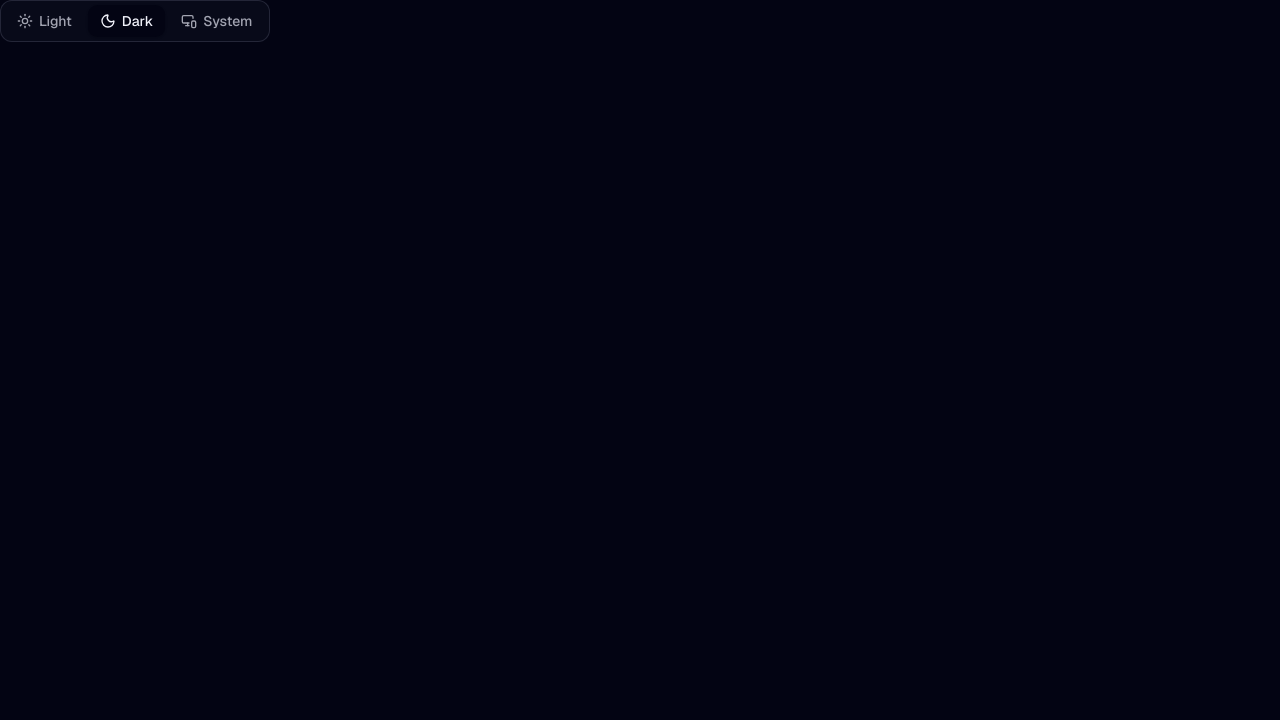
it: ThemeToggle › switches back to light mode and removes the .dark class
Click the radio button labelled "Dark".
click(127, 21)  # box 88,5 -> 165,37
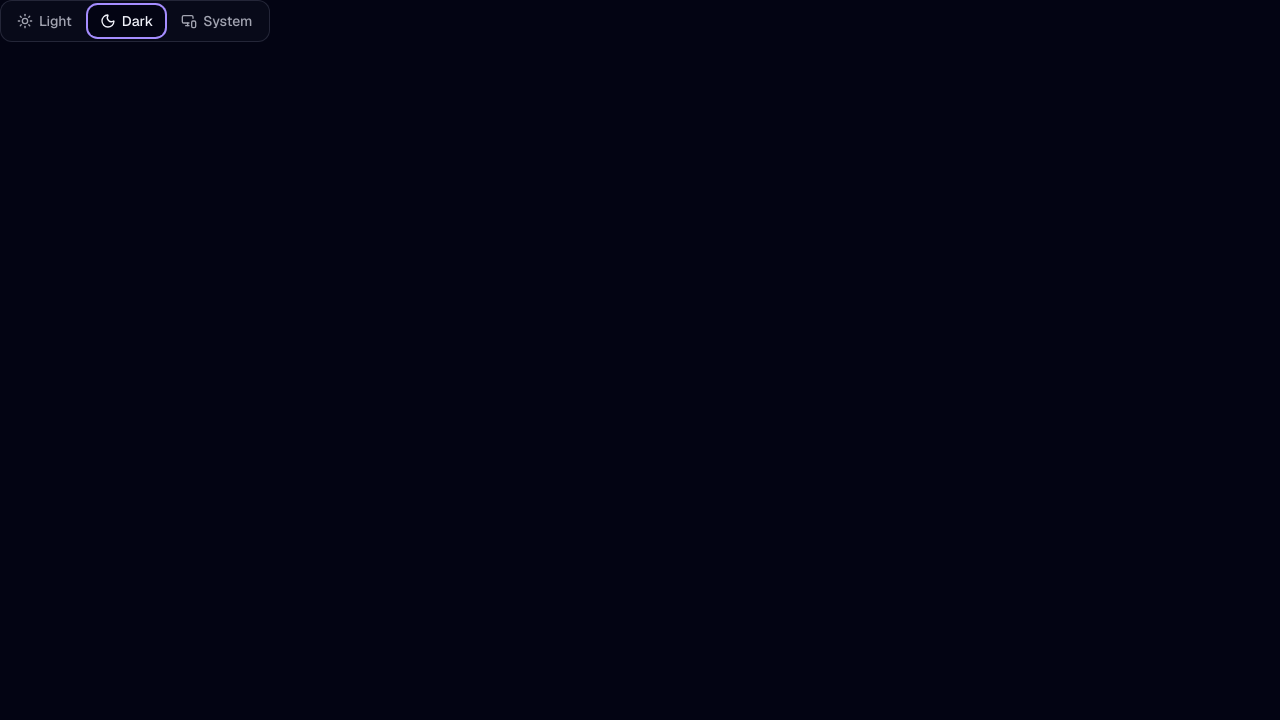
Click the radio button labelled "Light".
click(44, 21)  # box 5,5 -> 84,37
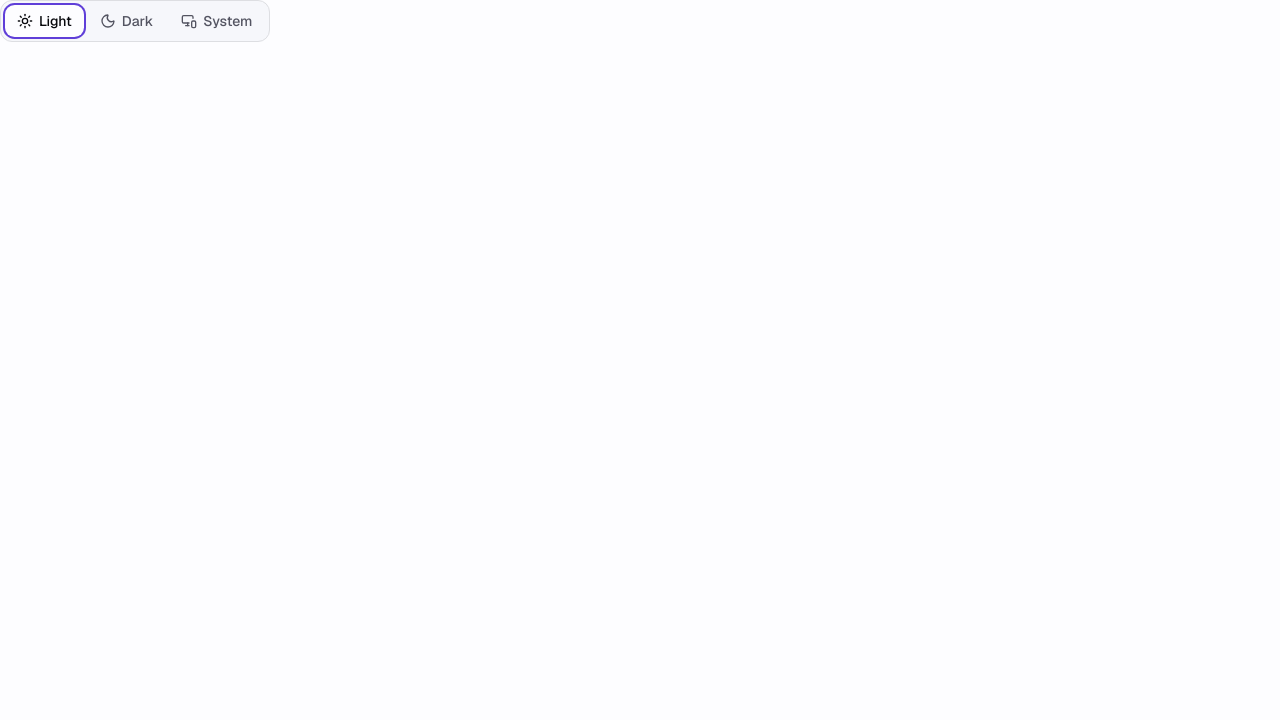
Now the radio button labelled "Light" is checked, box 5,5 -> 84,37
